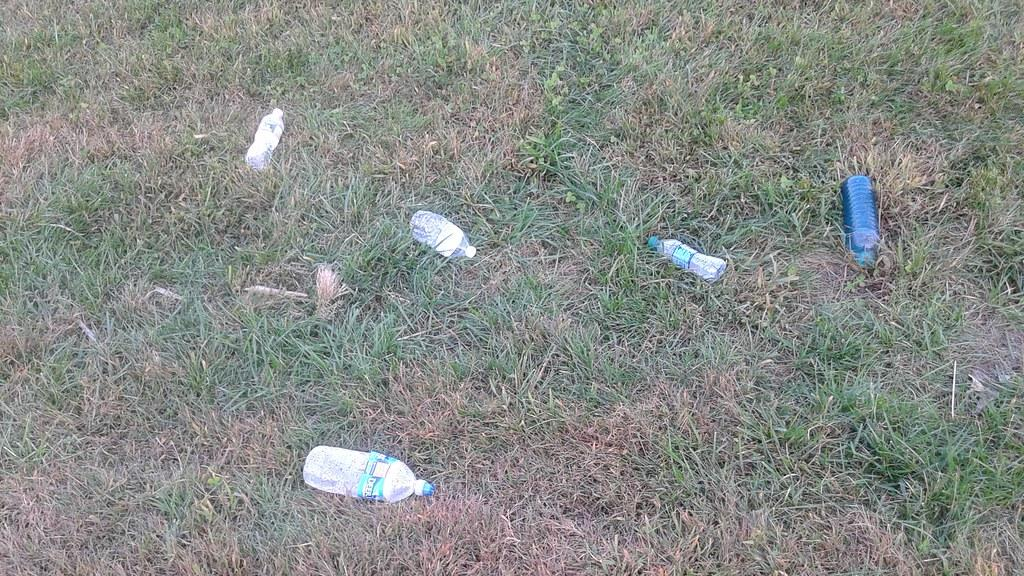bottle: (289, 423, 454, 520), (220, 63, 313, 229), (817, 160, 900, 313), (392, 180, 490, 273), (638, 234, 738, 288)
